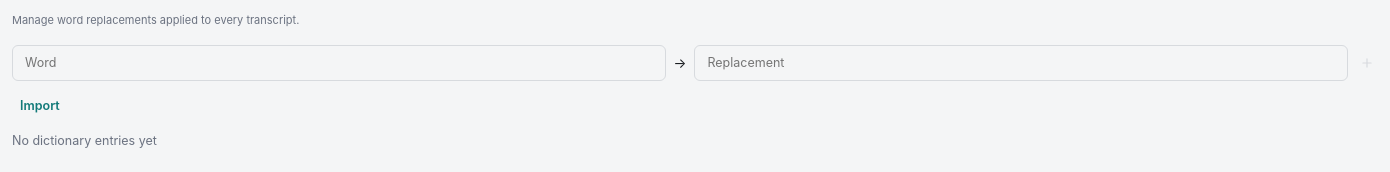
Test: DictionarySection › Add word is disabled until both fields are filled
Check: the text "No dictionary entries yet" is shown, box [12, 133, 157, 148]
Type "a" into the field labelled "Word".
click(339, 63); type("a")  # box [12, 44, 666, 81]
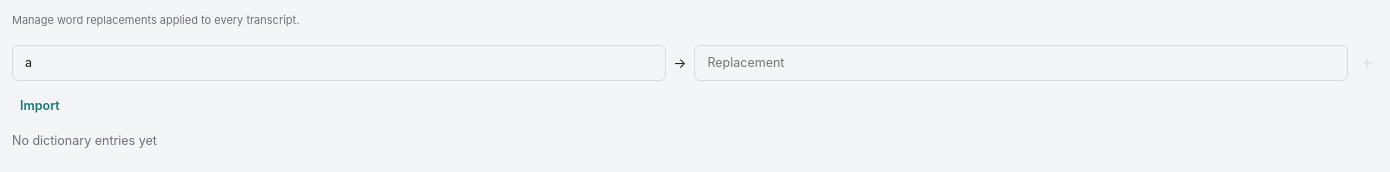
Type "b" into the field labelled "Replacement".
click(1021, 63); type("b")  # box [694, 44, 1348, 81]
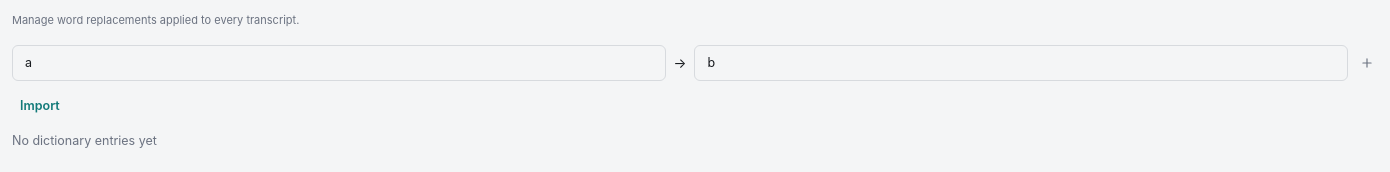
Check: the button named "Add word" is enabled, box [1356, 52, 1378, 74]
